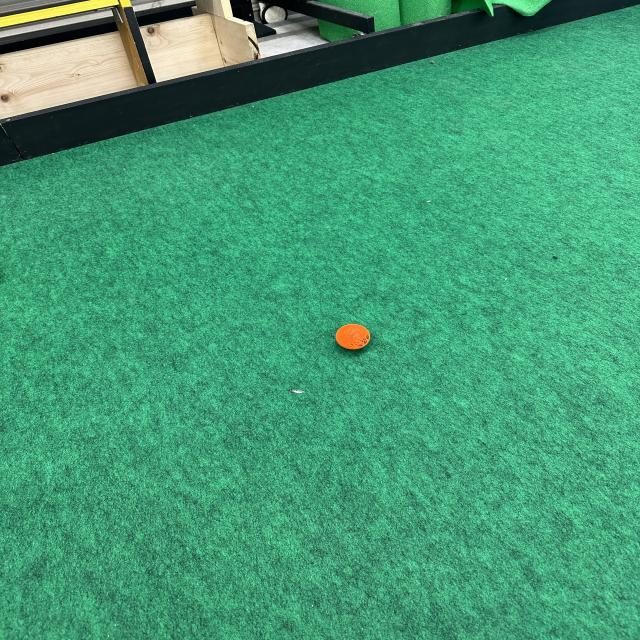ball: (334, 322, 371, 351)
